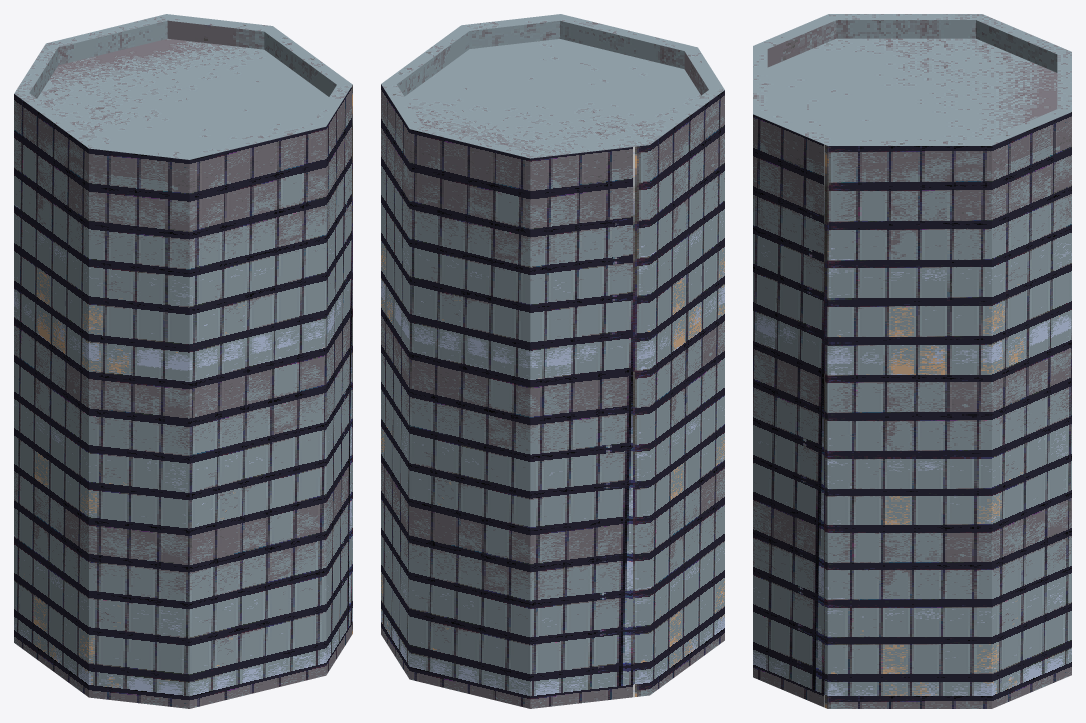
Rendered from psx_-_hex_skyscraper.glb.
3 renders of one model, left to right at view 1: azimuth 30°, elevation 25°; view 2: azimuth 150°, elevation 25°; view 3: azimuth 270°, elevation 25°, orthographic. The views are drawn at different scales.
Visible parts, largest first — view 1: pCube10; view 2: pCube10; view 3: pCube10.
Boxes of the visible parts, x1,y1,x2,y2 form: pCube10: (14, 14, 352, 708); pCube10: (381, 14, 724, 708); pCube10: (753, 14, 1071, 708).
Size of the model in its own units: 0.2537 by 0.5051 by 0.2591.
2 materials, 2 textured.
